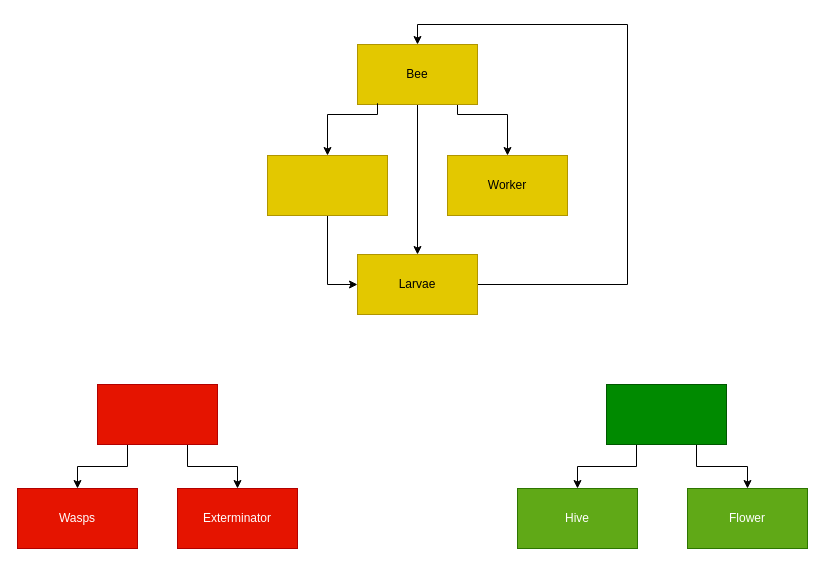
Image size: 825x566. Some labels were removed from this diagram. The centre of each missing label's shape, as x and y in pixels:
Enemy: (157,414)
Location: (666,414)
Queen: (327,185)
